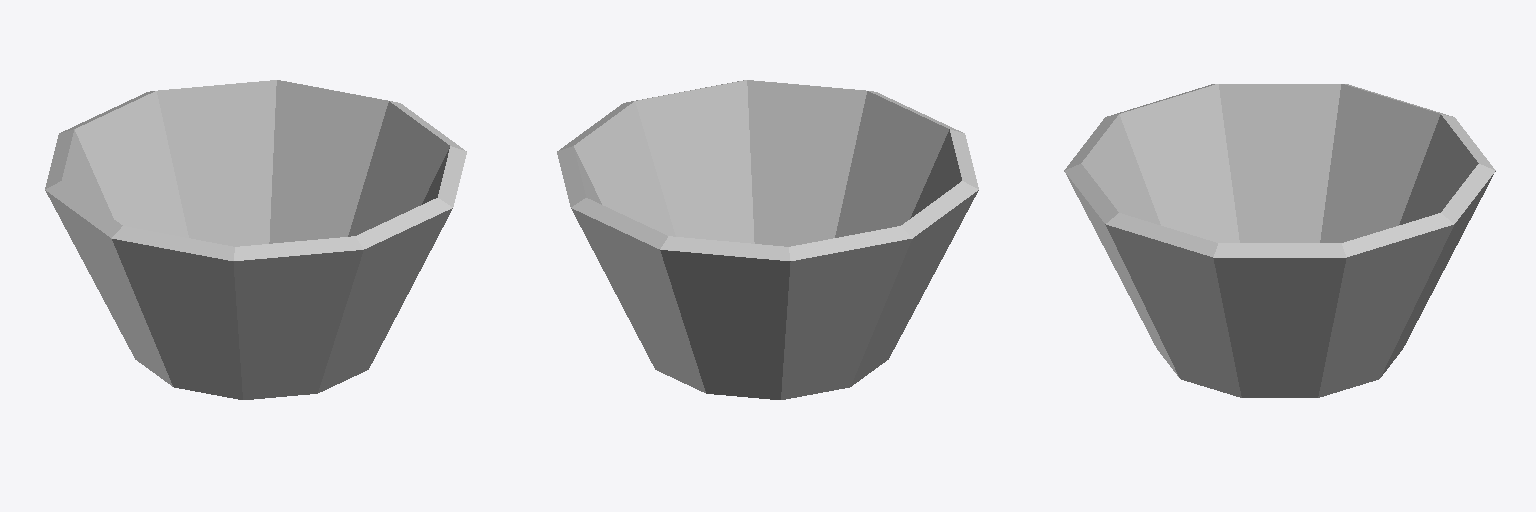
File: basket_1_001.obj
The picture shows the model from 3 angles: view 1: azimuth 30°, elevation 25°; view 2: azimuth 150°, elevation 25°; view 3: azimuth 270°, elevation 25°; orthographic projection.
Visible parts, largest first — view 1: basket_2; view 2: basket_2; view 3: basket_2.
Part boxes in pixels (left/top/right/bottom): basket_2: left=45, top=80, right=466, bottom=399; basket_2: left=557, top=80, right=978, bottom=399; basket_2: left=1064, top=84, right=1495, bottom=397.
Size of the model in its own units: 1.76 by 0.8747 by 1.85.